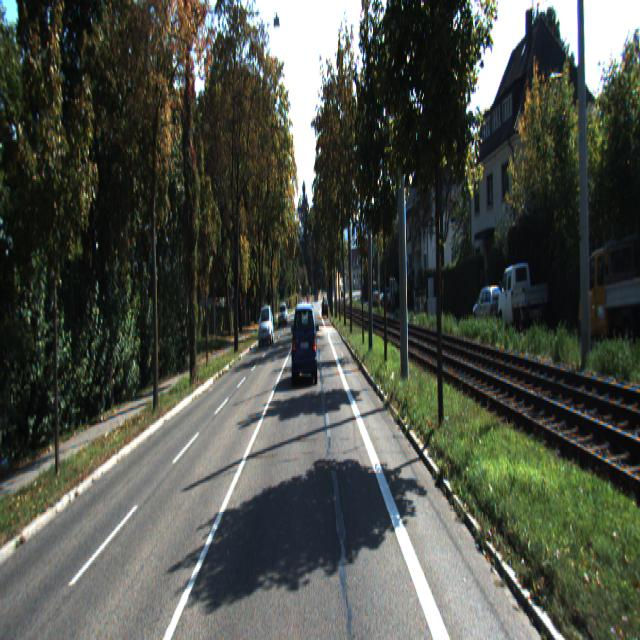Car: (576, 235, 640, 354), (497, 260, 548, 330), (292, 302, 319, 389), (472, 285, 506, 329), (258, 306, 273, 349), (278, 303, 288, 327)
